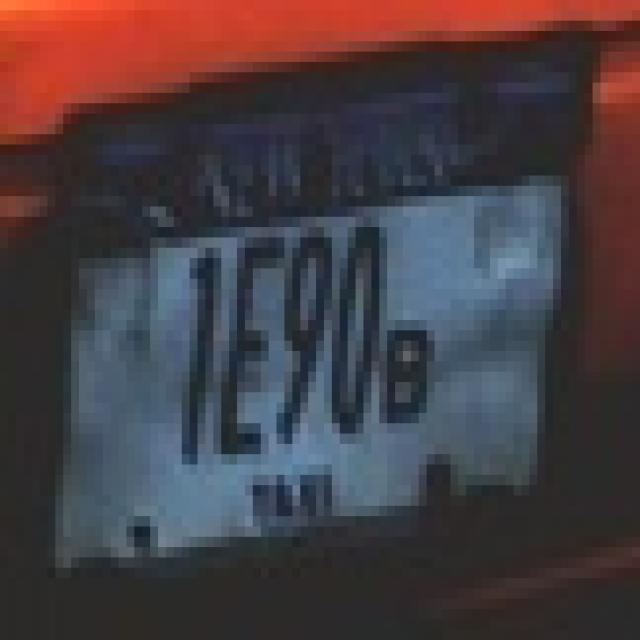LicensePlate: (48, 95, 594, 571)
